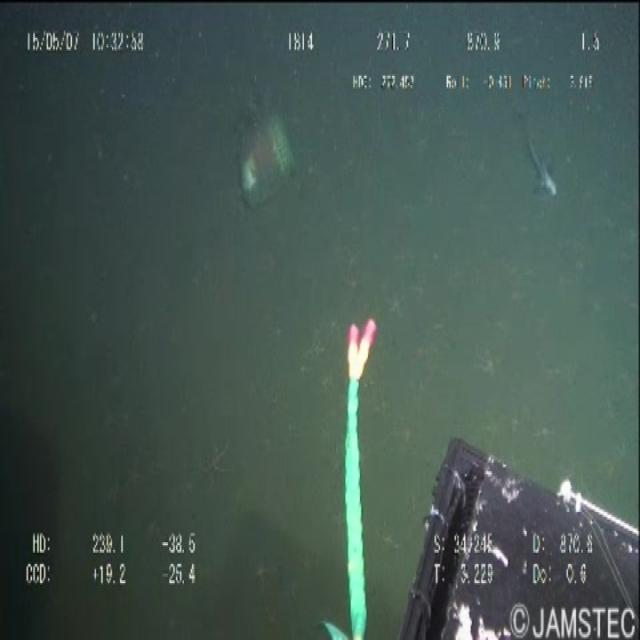Litter: (225, 81, 335, 242)
